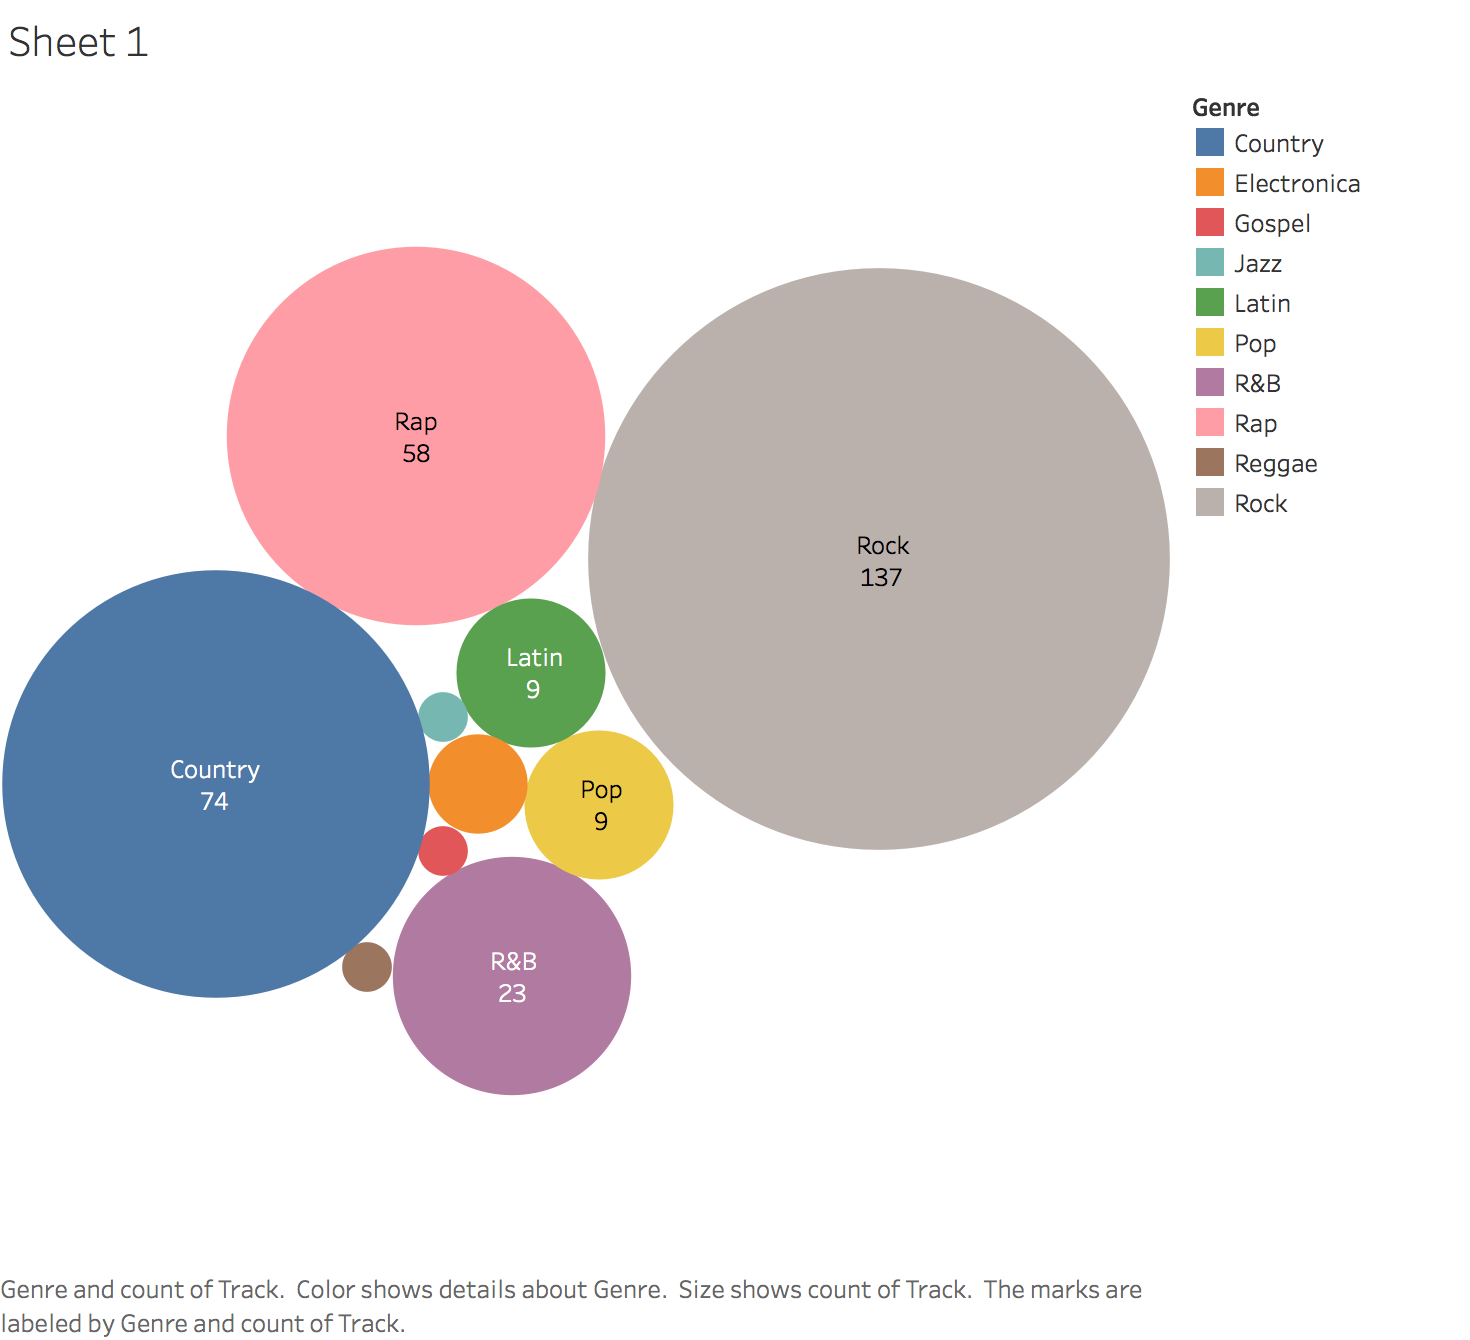

The page's visual inventory and layout, read from the dashboard file:
{"tool":"tableau","page":{"name":"Dashboard 2","canvas":[1000,800],"ordinal":1},"visuals":[{"type":"worksheet","title":"Sheet 1","mark":"Pie","box":[0,0,996,800]},{"type":"legend","title":"Sheet 1","param":"[federated.1c1qaf70rrb9h011uch2m0737lh5].[none:genre:nk]","box":[842,16,140,218]}]}

Visuals, with their boxes on the page's 1000x800 design canvas (x1, y1, x2, y2). These are canvas units, not pixel positions in the 1470x1340 screenshot, which may show the page scaled, cropped or inside an application window:
"Sheet 1" worksheet (Pie marks): 0, 0, 996, 800
"Sheet 1" legend: 842, 16, 982, 234
